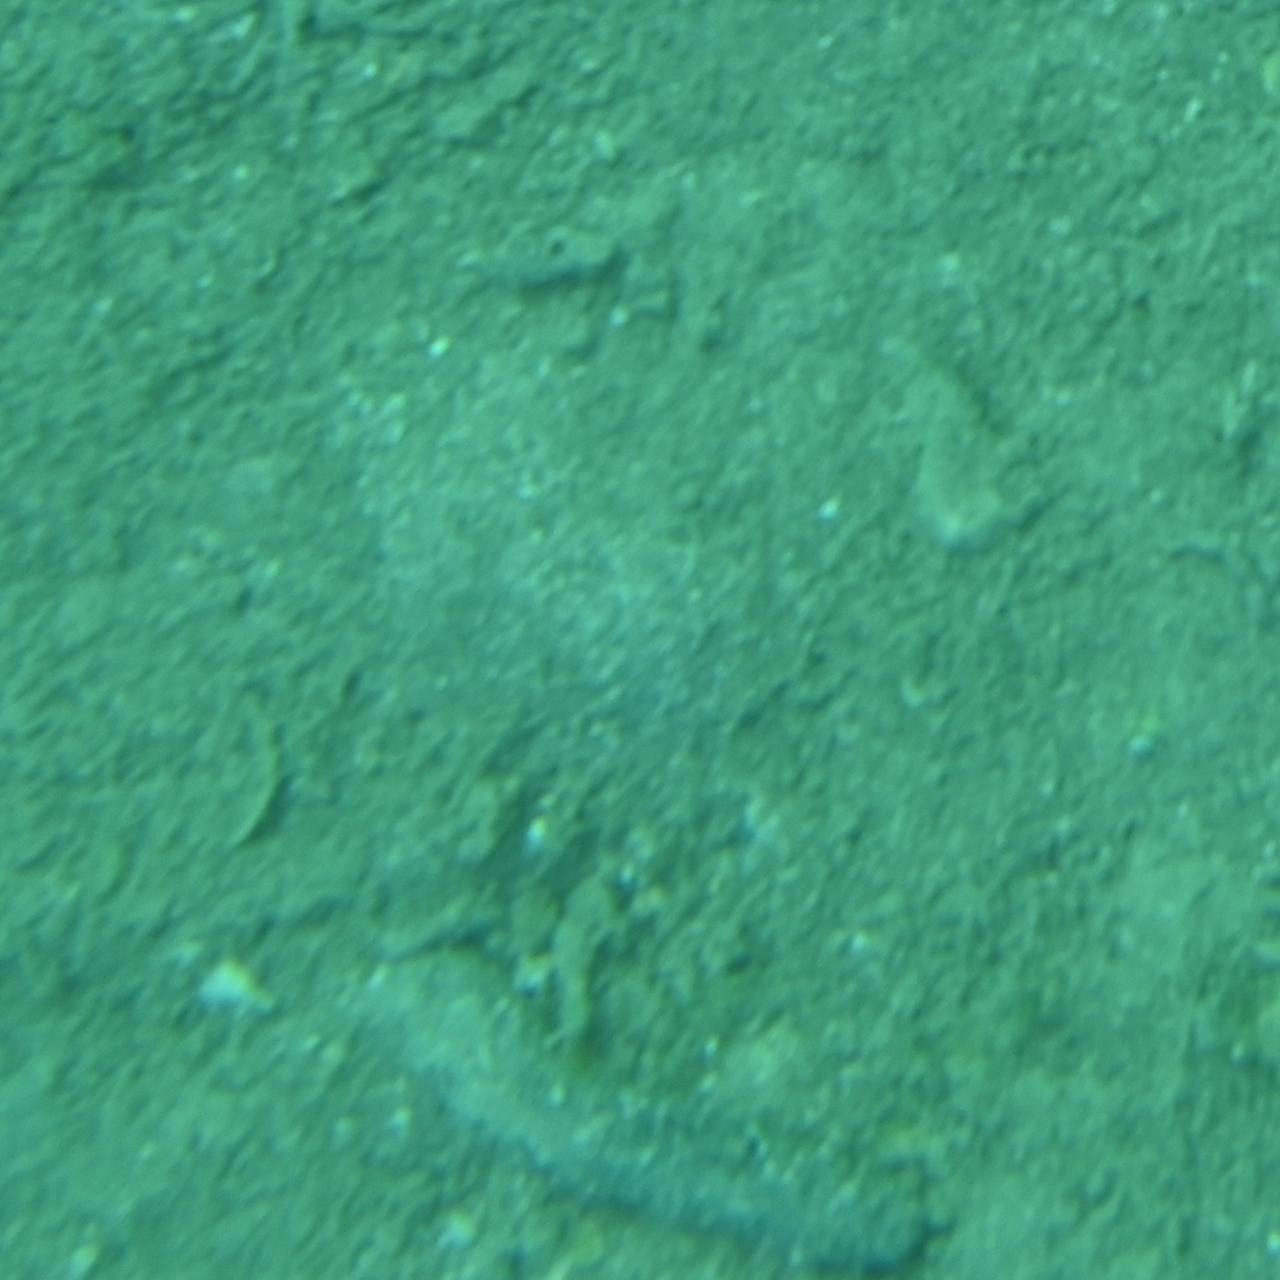Holothuria tubulosa: (331, 971, 949, 1279)
